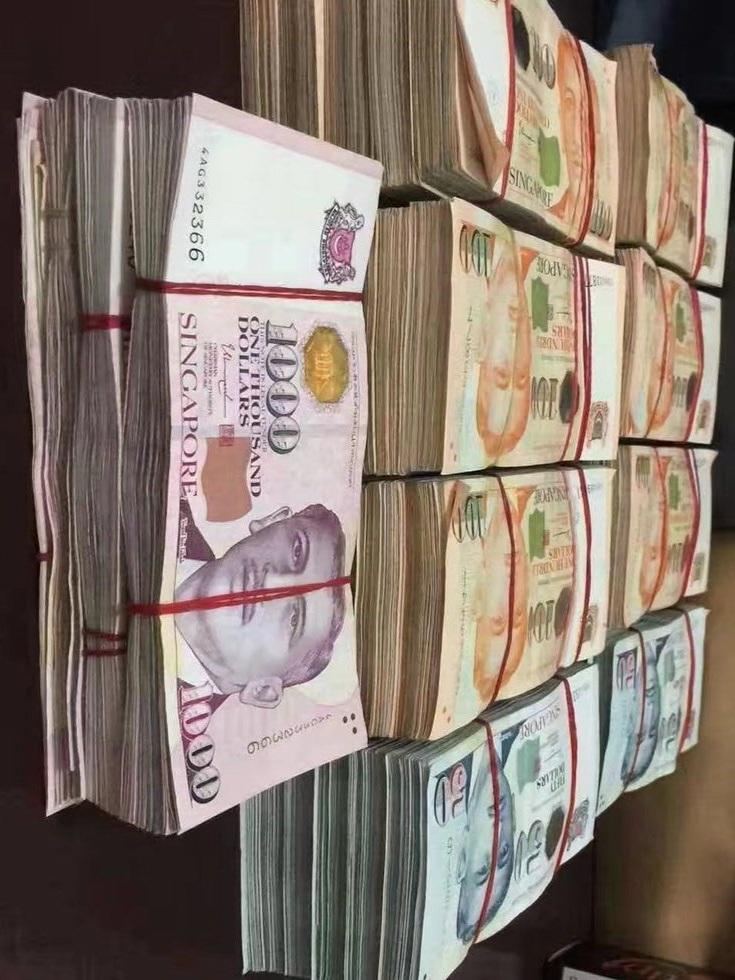1000SingaporeDollar: (174, 146, 372, 818)
